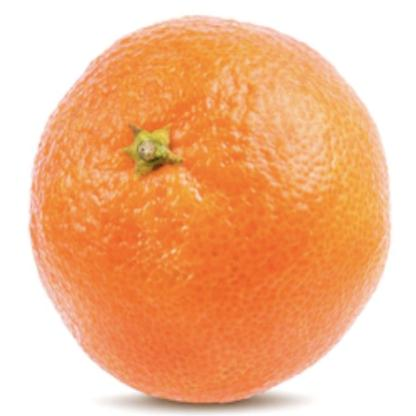fresh: (30, 20, 390, 404)
